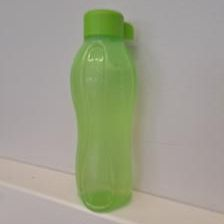bottle: (66, 9, 141, 213)
